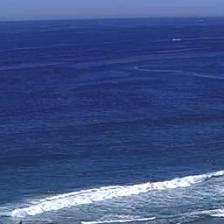surfer: (48, 189, 56, 192), (209, 149, 215, 152), (208, 159, 211, 163), (18, 221, 23, 223), (211, 162, 214, 165)
